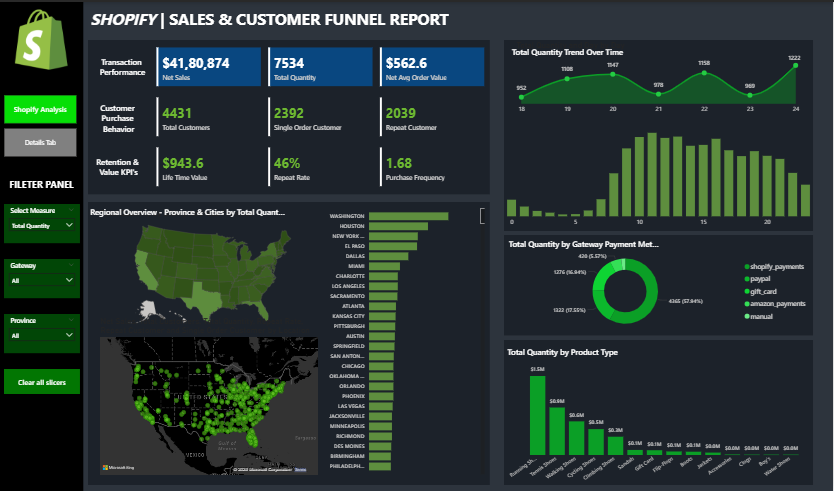

Layout of this report page (visuals, bound fields, positions):
{"tool":"powerbi","page":{"name":"Shopify Analysis","canvas":[1700,1000],"ordinal":0},"visuals":[{"type":"shape","box":[0,0,170,999.5],"z":0},{"type":"textbox","box":[179.6,6.1,753.1,71.4],"z":1000},{"type":"shape","box":[179.6,77.6,820,315],"z":2000},{"type":"cardVisual","fields":{"Data":["Measures_Table.Net Sales","Measures_Table.Total Quantity","Measures_Table.Net Avg Order Value"]},"box":[314.3,87.8,679.6,89.8],"z":3000},{"type":"card","fields":{"Values":["Measures_Table.Transaction Performance"]},"box":[177.6,87.8,144.9,89.8],"z":4000},{"type":"cardVisual","fields":{"Data":["Measures_Table.Total Customers","Measures_Table.Single Order Customer","Measures_Table.Repeat Customer"]},"box":[314.3,189.8,679.6,89.8],"z":5000},{"type":"card","fields":{"Values":["Measures_Table.Customer Purchase Behavior"]},"box":[169.4,189.8,144.9,89.8],"z":6000},{"type":"cardVisual","fields":{"Data":["Measures_Table.Life Time Value","Measures_Table.Repeat Rate","Measures_Table.Purchase Frequency"]},"box":[314.3,291.8,679.6,89.8],"z":7000},{"type":"card","fields":{"Values":["Measures_Table.Retention & Value KPI's"]},"box":[169.4,291.8,144.9,89.8],"z":8000},{"type":"shape","box":[179.6,408.2,820.4,577.6],"z":9000},{"type":"shapeMap","fields":{"Value":["Measures_Table.Total Quantity"],"Category":["shopify_sales.Billing Address Province"]},"box":[200,420.4,455.1,251],"z":10000},{"type":"slicer","fields":{"Values":["Select Measure.Select Measure"]},"box":[8.2,412.2,155.1,80],"z":11000},{"type":"map","fields":{"Category":["shopify_sales.Location"]},"box":[200,640.8,455.1,328.6],"z":12000},{"type":"clusteredBarChart","fields":{"Y":["Measures_Table.Total Quantity"],"Category":["shopify_sales.CITY"]},"box":[655.1,408.2,338.8,561.2],"z":13000},{"type":"card","fields":{"Values":["Measures_Table.Map Title"]},"box":[177.6,404.1,410.2,55.1],"z":14000},{"type":"shape","box":[1028.6,77.6,630.6,389.8],"z":15000},{"type":"areaChart","fields":{"Y":["Measures_Table.Total Quantity"],"Category":["shopify_sales.Invoice Date.Variation.Date Hierarchy.Day"]},"box":[1049,77.6,589.8,159.2],"z":16000},{"type":"columnChart","fields":{"Y":["Measures_Table.Total Quantity"],"Category":["shopify_sales.Hour"]},"box":[1028.6,244.9,630.6,222.4],"z":17000},{"type":"card","fields":{"Values":["Measures_Table.Trend Title"]},"box":[1000,77.6,316.3,55.1],"z":18000},{"type":"shape","box":[1028.6,475.5,630.6,205],"z":19000},{"type":"donutChart","fields":{"Y":["Measures_Table.Total Quantity"],"Category":["shopify_sales.Gateway"]},"box":[1028.8,500,630,180],"z":20000},{"type":"card","fields":{"Values":["Measures_Table.Payment Method Title"]},"box":[1032.9,467.1,317.1,55.7],"z":21000},{"type":"shape","box":[1028.6,689.8,630.6,295.9],"z":22000},{"type":"columnChart","fields":{"Y":["Measures_Table.Net Sales"],"Category":["shopify_sales.Product Type"]},"box":[1033.3,721.7,618.3,265],"z":23000},{"type":"card","fields":{"Values":["Measures_Table.Product Type Title"]},"box":[990,688.3,316.7,56.7],"z":24000},{"type":"slicer","fields":{"Values":["shopify_sales.Gateway"]},"box":[8.2,524.5,155.1,80],"z":25000},{"type":"image","box":[20.4,10.2,128.6,132.7],"z":26000},{"type":"slicer","fields":{"Values":["shopify_sales.Billing Address Province"]},"box":[8.2,636.7,155.1,79.6],"z":27000},{"type":"pageNavigator","box":[8.2,189.8,149,126.5],"z":28000},{"type":"actionButton","box":[8.2,749,155.1,51],"z":31000},{"type":"textbox","box":[14.3,355.1,151,38.8],"z":32000}]}

Visuals, with their boxes on the page's 1700x1000 design canvas (x1, y1, x2, y2). These are canvas units, not pixel positions in the 834x491 screenshot, which may show the page scaled, cropped or inside an application window:
shape: {"x1": 0, "y1": 0, "x2": 170, "y2": 1000}
textbox: {"x1": 180, "y1": 6, "x2": 933, "y2": 78}
shape: {"x1": 180, "y1": 78, "x2": 1000, "y2": 393}
cardVisual - Measures_Table.Net Sales x Measures_Table.Total Quantity: {"x1": 314, "y1": 88, "x2": 994, "y2": 178}
card - Measures_Table.Transaction Performance: {"x1": 178, "y1": 88, "x2": 322, "y2": 178}
cardVisual - Measures_Table.Total Customers x Measures_Table.Single Order Customer: {"x1": 314, "y1": 190, "x2": 994, "y2": 280}
card - Measures_Table.Customer Purchase Behavior: {"x1": 169, "y1": 190, "x2": 314, "y2": 280}
cardVisual - Measures_Table.Life Time Value x Measures_Table.Repeat Rate: {"x1": 314, "y1": 292, "x2": 994, "y2": 382}
card - Measures_Table.Retention & Value KPI's: {"x1": 169, "y1": 292, "x2": 314, "y2": 382}
shape: {"x1": 180, "y1": 408, "x2": 1000, "y2": 986}
shapeMap - Measures_Table.Total Quantity x shopify_sales.Billing Address Province: {"x1": 200, "y1": 420, "x2": 655, "y2": 671}
slicer - Select Measure.Select Measure: {"x1": 8, "y1": 412, "x2": 163, "y2": 492}
map - shopify_sales.Location: {"x1": 200, "y1": 641, "x2": 655, "y2": 969}
clusteredBarChart - Measures_Table.Total Quantity x shopify_sales.CITY: {"x1": 655, "y1": 408, "x2": 994, "y2": 969}
card - Measures_Table.Map Title: {"x1": 178, "y1": 404, "x2": 588, "y2": 459}
shape: {"x1": 1029, "y1": 78, "x2": 1659, "y2": 467}
areaChart - Measures_Table.Total Quantity x shopify_sales.Invoice Date.Variation.Date Hierarchy.Day: {"x1": 1049, "y1": 78, "x2": 1639, "y2": 237}
columnChart - Measures_Table.Total Quantity x shopify_sales.Hour: {"x1": 1029, "y1": 245, "x2": 1659, "y2": 467}
card - Measures_Table.Trend Title: {"x1": 1000, "y1": 78, "x2": 1316, "y2": 133}
shape: {"x1": 1029, "y1": 476, "x2": 1659, "y2": 680}
donutChart - Measures_Table.Total Quantity x shopify_sales.Gateway: {"x1": 1029, "y1": 500, "x2": 1659, "y2": 680}
card - Measures_Table.Payment Method Title: {"x1": 1033, "y1": 467, "x2": 1350, "y2": 523}
shape: {"x1": 1029, "y1": 690, "x2": 1659, "y2": 986}
columnChart - Measures_Table.Net Sales x shopify_sales.Product Type: {"x1": 1033, "y1": 722, "x2": 1652, "y2": 987}
card - Measures_Table.Product Type Title: {"x1": 990, "y1": 688, "x2": 1307, "y2": 745}
slicer - shopify_sales.Gateway: {"x1": 8, "y1": 524, "x2": 163, "y2": 604}
image: {"x1": 20, "y1": 10, "x2": 149, "y2": 143}
slicer - shopify_sales.Billing Address Province: {"x1": 8, "y1": 637, "x2": 163, "y2": 716}
pageNavigator: {"x1": 8, "y1": 190, "x2": 157, "y2": 316}
actionButton: {"x1": 8, "y1": 749, "x2": 163, "y2": 800}
textbox: {"x1": 14, "y1": 355, "x2": 165, "y2": 394}
